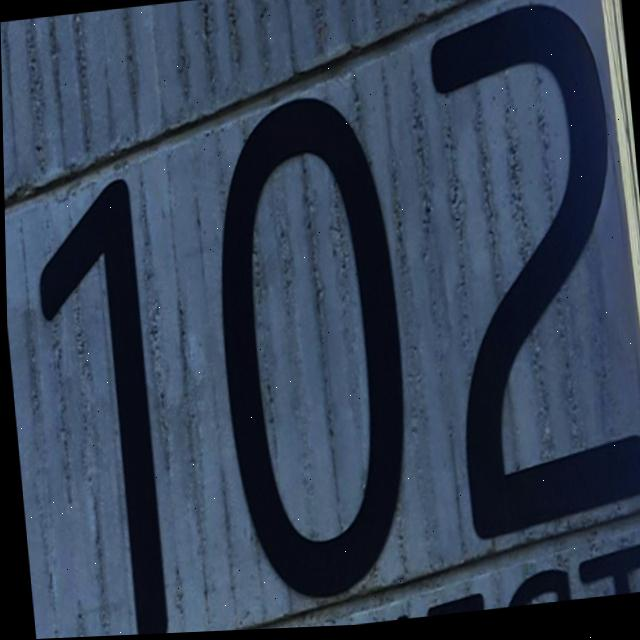character: (419, 0, 640, 555), (197, 85, 427, 616), (26, 169, 175, 639)
